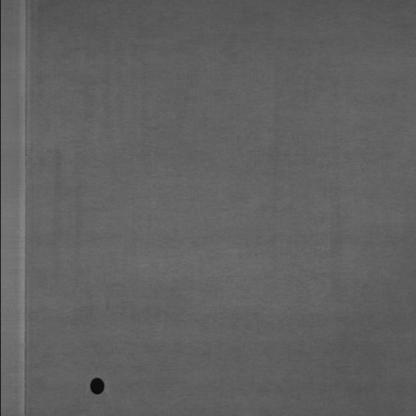punching_hole: (84, 375, 108, 397)
welding_line: (13, 2, 37, 415)
